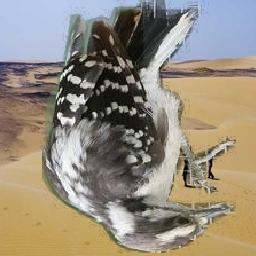Woodpecker: (42, 1, 236, 254)
